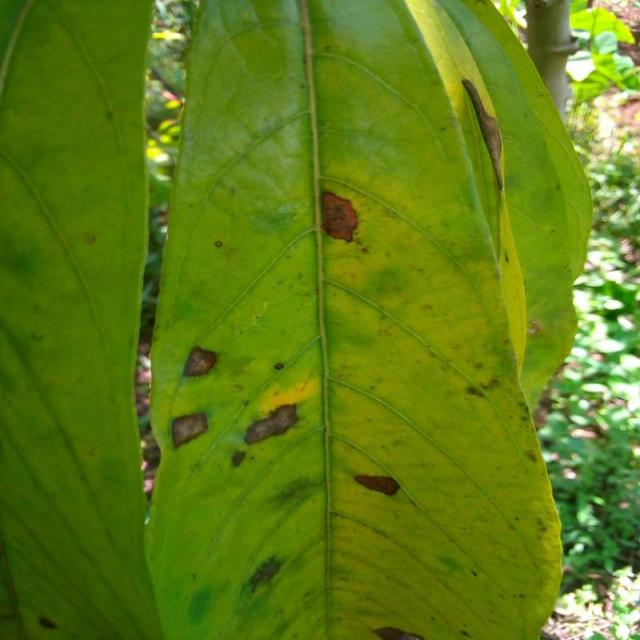cassava leaf: (142, 0, 590, 639), (0, 0, 161, 639)
